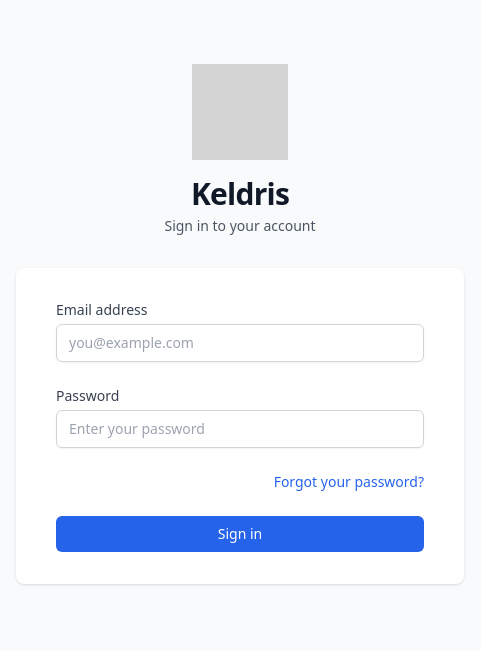
Test: LoginPage › shows network error when fetch throws
This screenshot has width=481, height=650.
Type "user@test.com" into the field labelled "Email address" at (240, 343), box 56,324 -> 424,362
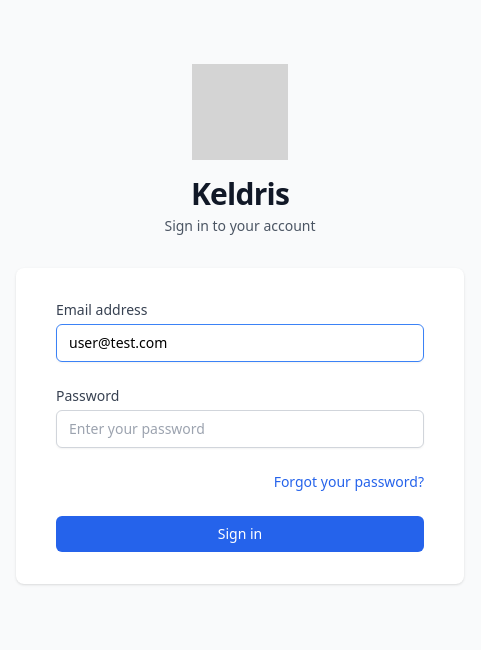
Type "password123" into the password field labelled "Password" at (240, 429), box 56,410 -> 424,448
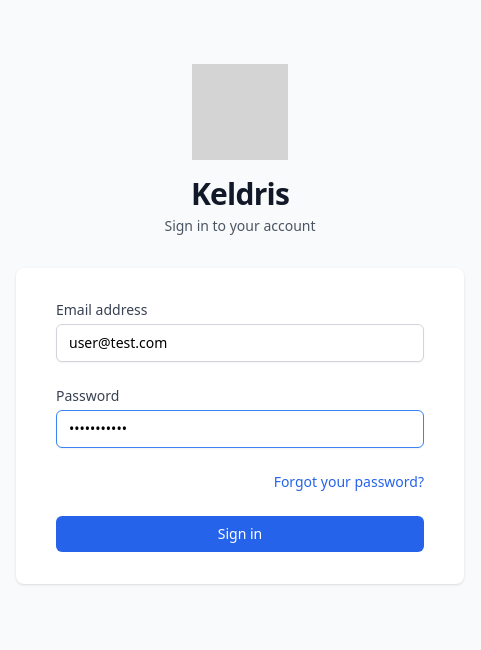
Click the button "Sign in" at (240, 534), box 56,516 -> 424,552
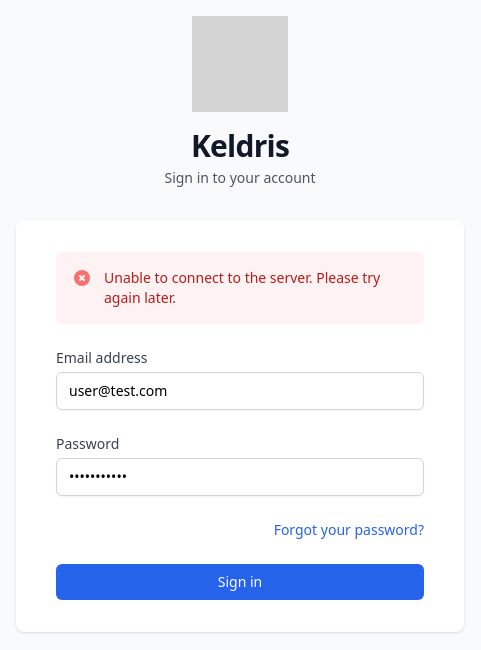
Expected: the text "Unable to connect to the server. Please try again later." is shown, 104,268 -> 408,308
